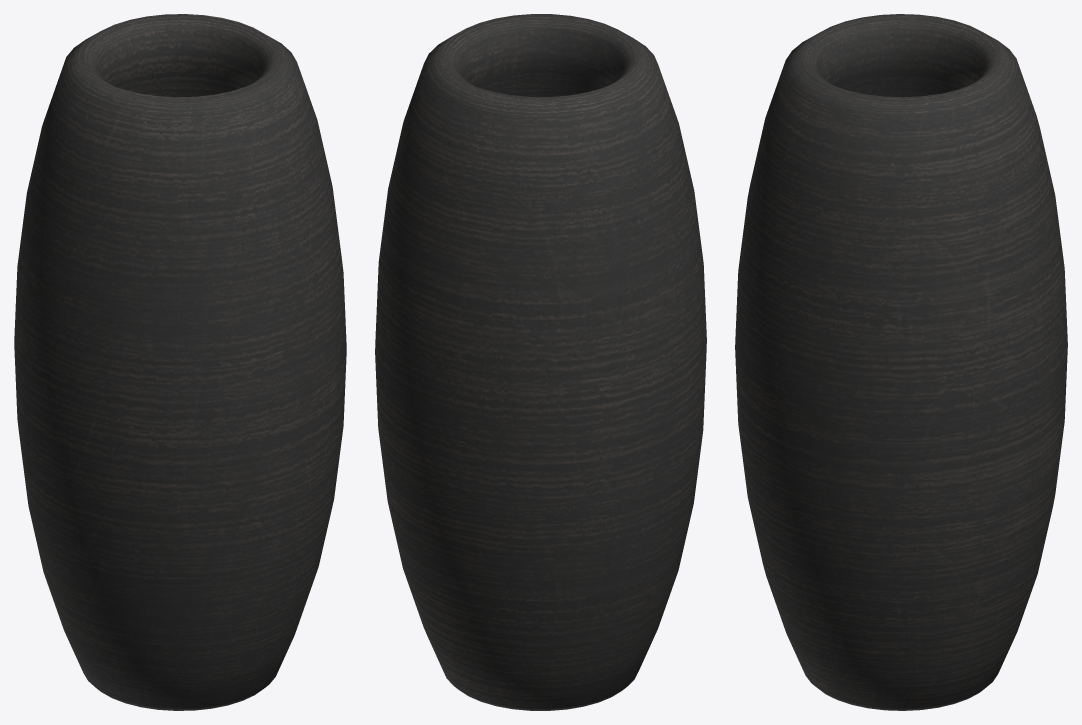
Rendered from relics_03.glb.
3 views of the same model, side by side, from view 1: azimuth 30°, elevation 25°; view 2: azimuth 150°, elevation 25°; view 3: azimuth 270°, elevation 25° (orthographic).
Visible parts, largest first — view 1: Vase_01; view 2: Vase_01; view 3: Vase_01.
Part boxes in pixels (bbox=[...]): Vase_01: bbox=[14, 14, 346, 710]; Vase_01: bbox=[375, 14, 706, 710]; Vase_01: bbox=[735, 14, 1067, 710].
Bounding box in the file's own units: 0.2979 × 0.6085 × 0.2979.
Materials: 1 (1 with a texture image).
